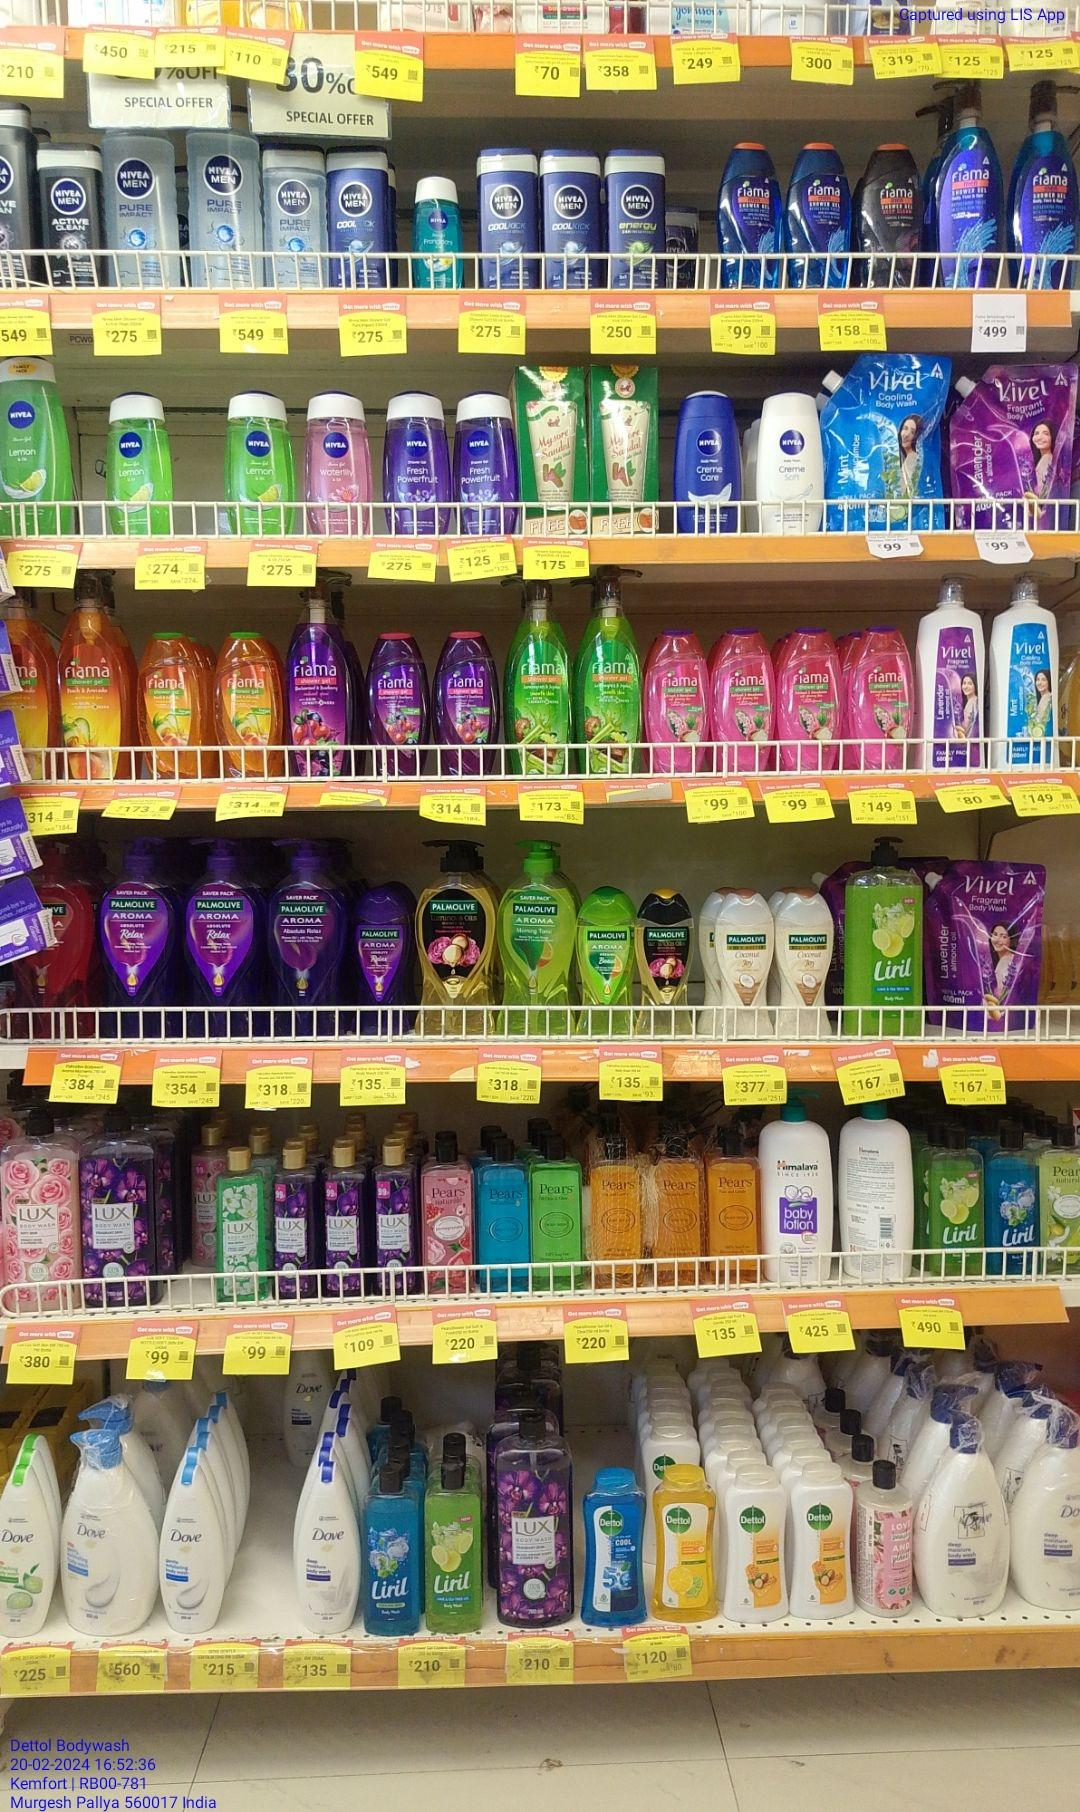Dettol_Bodywash_Cool: (582, 1465, 647, 1626)
Dettol_Bodywash_Refresh: (652, 1462, 717, 1622)
Dettol_Nourish_Body_Wash_250ML: (725, 1469, 788, 1621), (793, 1468, 855, 1619)
Dove_Deep_Moisture_Body_Wash_250ML: (297, 1460, 363, 1633)
Dove_Gentle_Exfoliating_Body_Wash_250ML: (158, 1464, 222, 1635)
Dove_Refreshing_Body_Wash_250ML: (0, 1471, 55, 1637)
Fiama_Shower_Gel_Patchouli_and_Macadamia_250ML: (644, 630, 710, 774), (847, 627, 912, 768), (779, 630, 842, 771), (715, 628, 773, 770)
Fiama_Shower_Gel_Peach_and_Avocado_250ML: (138, 631, 203, 780), (213, 634, 279, 777)
Liril_Cooling_Mint_Body_Wash_250ML: (366, 1469, 420, 1637), (989, 1127, 1038, 1271)
Liril_Lime_and_Tea_Tree_Oil_Body_Wash_250ML: (428, 1462, 481, 1633), (931, 1128, 985, 1277)
Lux_Black_Orchid_Scent_and_Juniper_Oil_Body_Wash_245ML: (320, 1145, 368, 1297), (373, 1142, 420, 1293), (273, 1145, 316, 1295)
Lux_Body_Wash_Skin_Detox_Freesia_Scent_and_Alove_Vera_245ML: (216, 1146, 264, 1302)
Nivea_Creme_Care_Body_Wash_250ML: (672, 397, 742, 533)
Nivea_Creme_Soft_Body_Wash_250ML: (756, 389, 823, 536)
Nivea_Shower_Gel_Fresh_Powerfruit_250ML: (383, 393, 450, 533), (455, 395, 514, 536)
Nivea_Shower_Gel_Lemon_and_Oil_250ML: (0, 360, 75, 532), (226, 388, 296, 533), (108, 397, 174, 536)
Nivea_Shower_Gel_Waterlily_and_Oil_250ML: (305, 392, 370, 533)
Palmolive_Aroma_Relax_250ML: (352, 892, 410, 1033)
Palmolive_Luminous_Oils_Invigorating_Macadamia_Oil_With_Peony_250ML: (636, 889, 694, 1037)
Pears_Naturale_Aloe_Vera_Body_Wash_250ML: (1041, 1123, 1080, 1275)
Pears_Pure_Glycerin_and_Lemon_Flower_Extracts_Body_Wash_250ML: (532, 1139, 581, 1293)
Pears_Pure_Glycerin_and_Mint_Extracts_Body_Wash_250ML: (480, 1137, 528, 1290)
